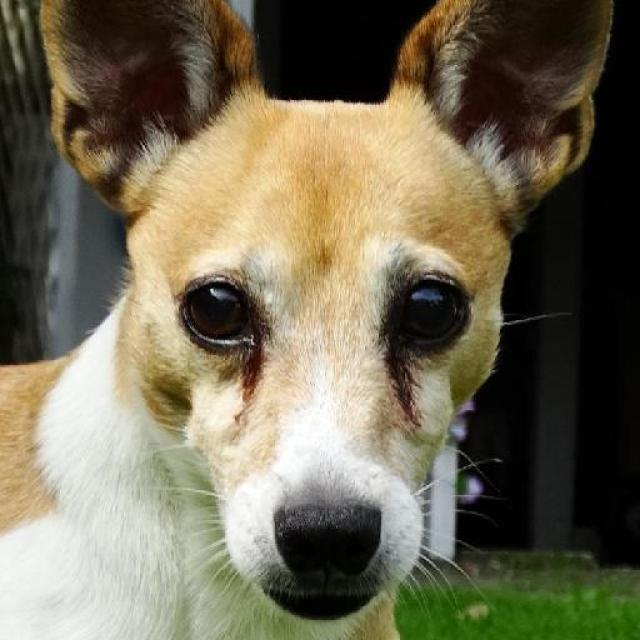sad: (35, 0, 611, 634)
